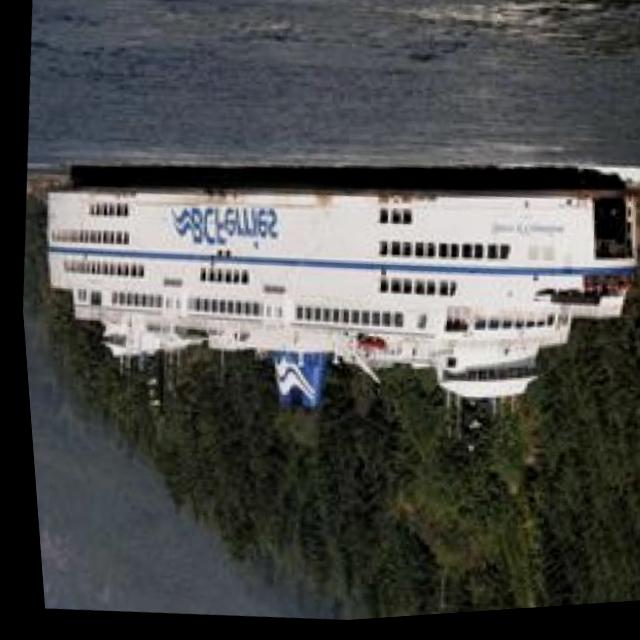ship2: (40, 159, 631, 458)
